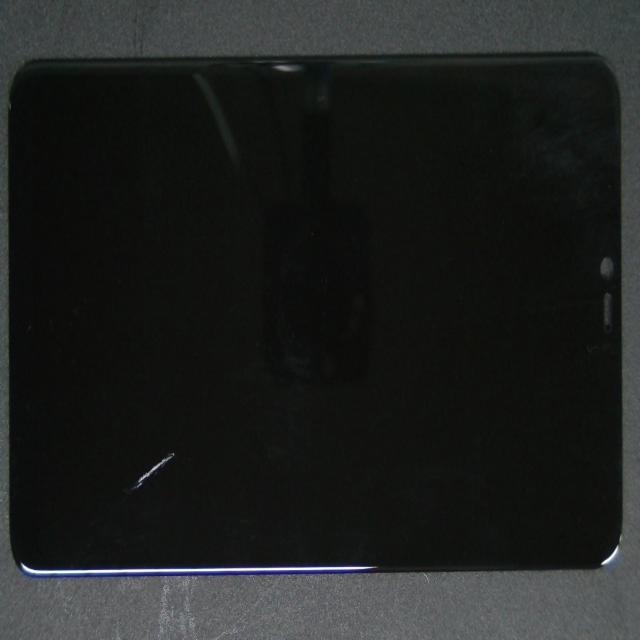scratch: (116, 200, 240, 640)
